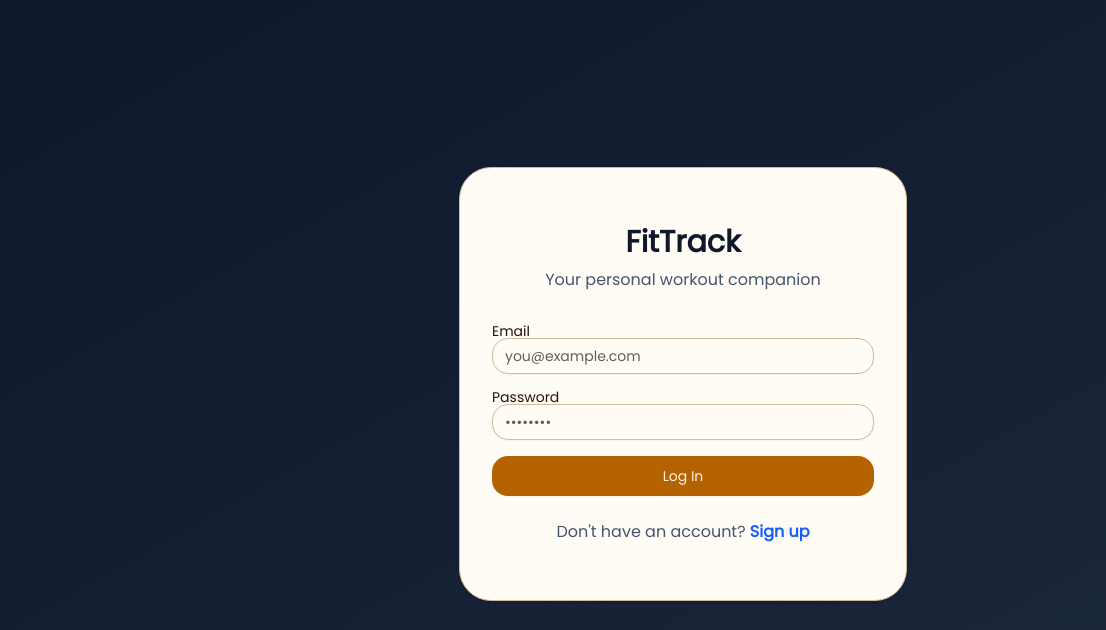
Scenario: LoginView › disables submit button while loading
This screenshot has width=1106, height=630.
Type "test@example.com" into the field labelled "Email" at (683, 356), box left=492, top=338, right=874, bottom=374
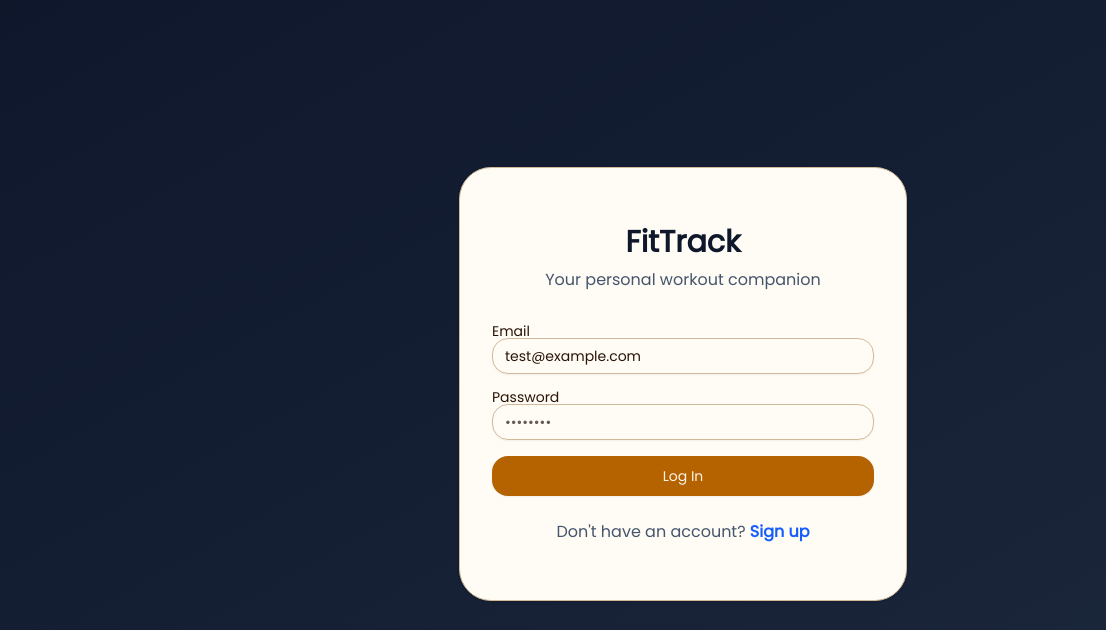
Type "password123" into the password field labelled "Password" at (683, 422), box left=492, top=404, right=874, bottom=440
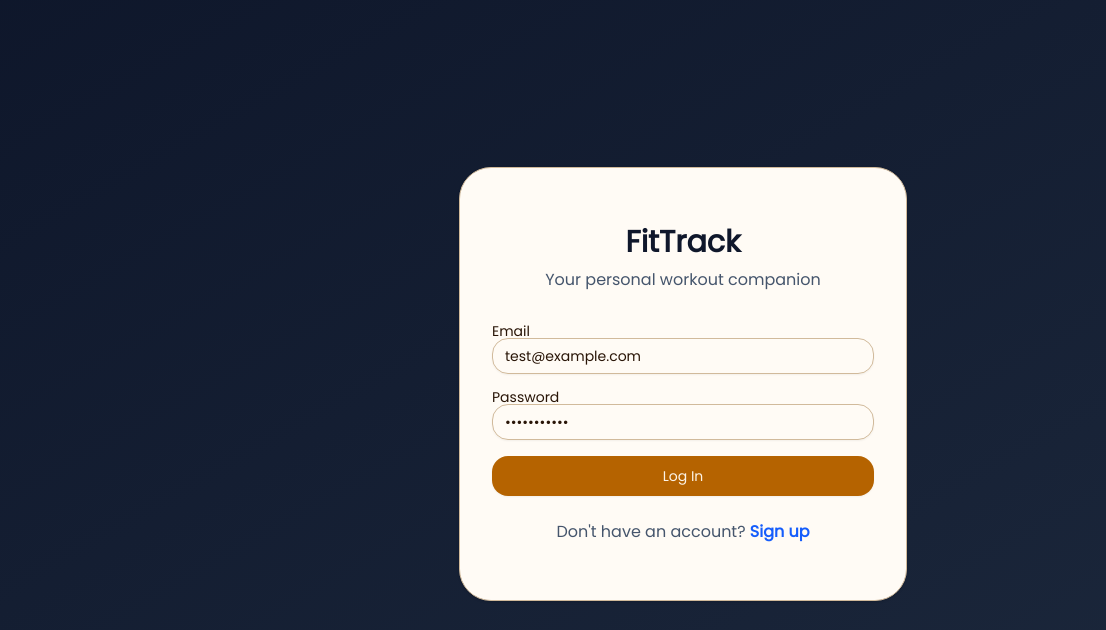
Click the button "Log In" at (683, 476), box left=492, top=456, right=874, bottom=496
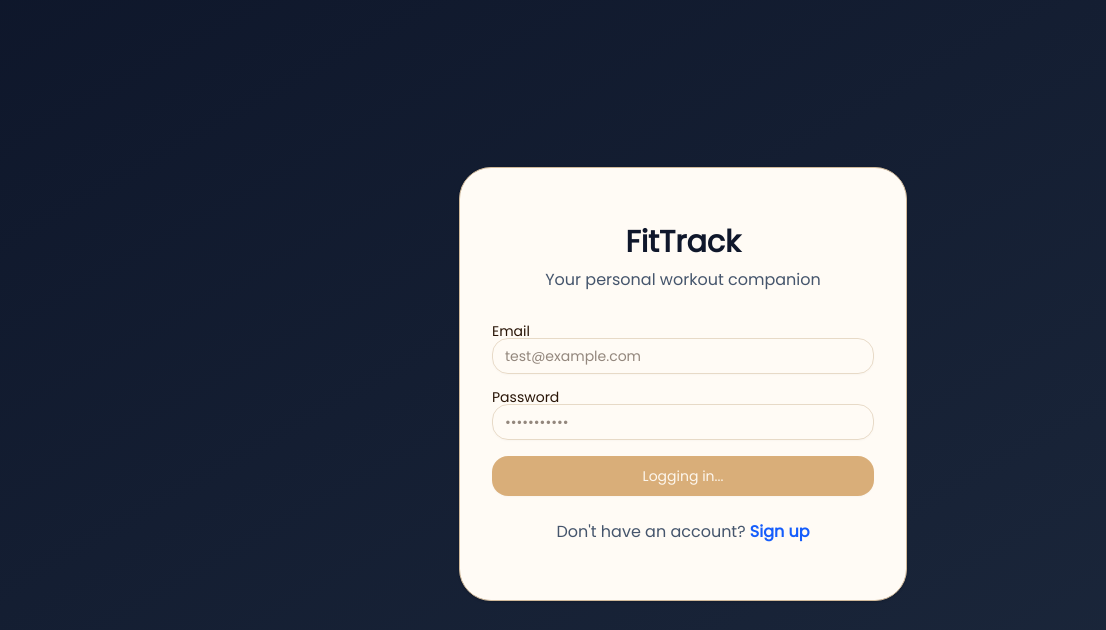
Expected: the button named "log in" is disabled, left=492, top=456, right=874, bottom=496
